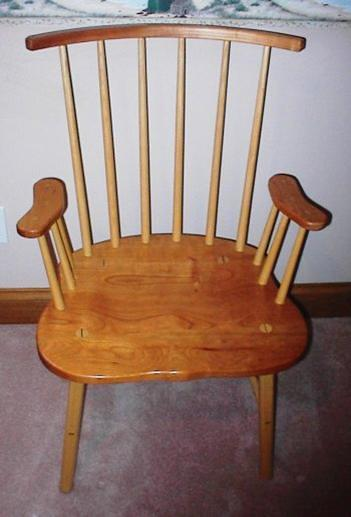chair: (19, 23, 332, 493)
